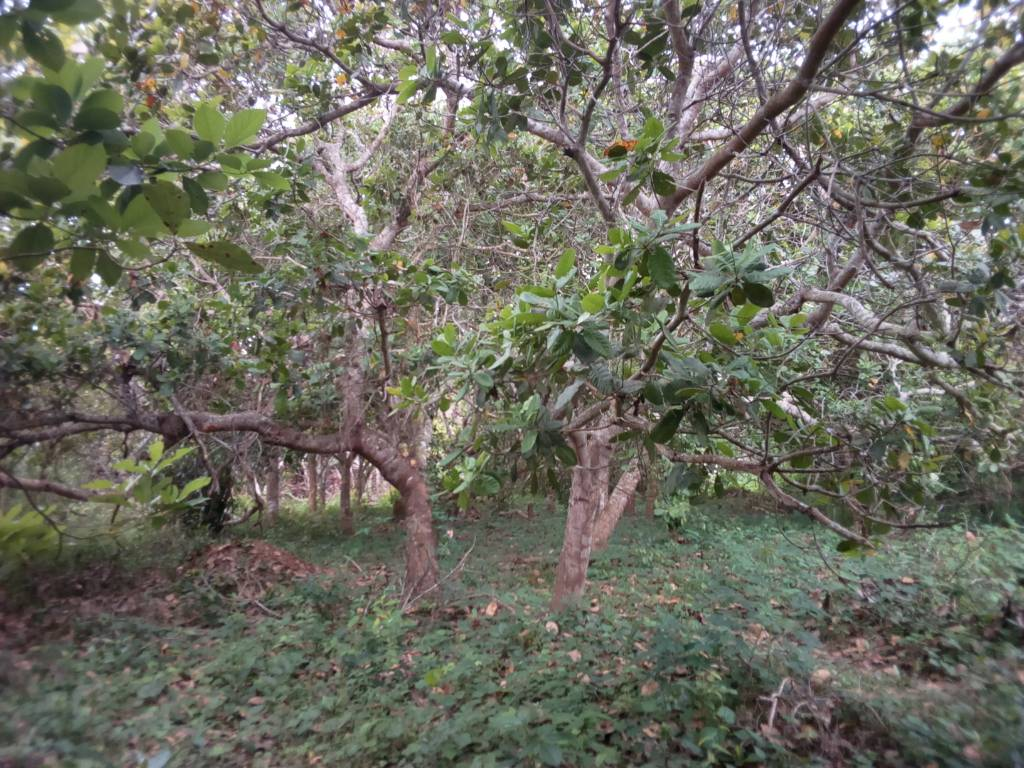Bactériose: (183, 240, 268, 277), (139, 180, 196, 234)
